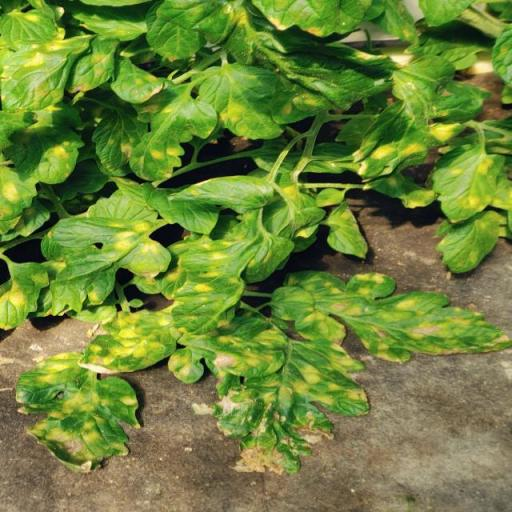disease_tomato: (211, 338, 370, 474), (284, 269, 512, 362), (352, 54, 484, 182), (15, 351, 142, 475), (161, 227, 294, 337), (49, 217, 171, 316), (168, 308, 289, 384), (129, 79, 218, 181), (190, 63, 295, 140), (78, 310, 182, 375), (432, 142, 506, 223), (433, 210, 499, 274), (168, 175, 274, 214)
